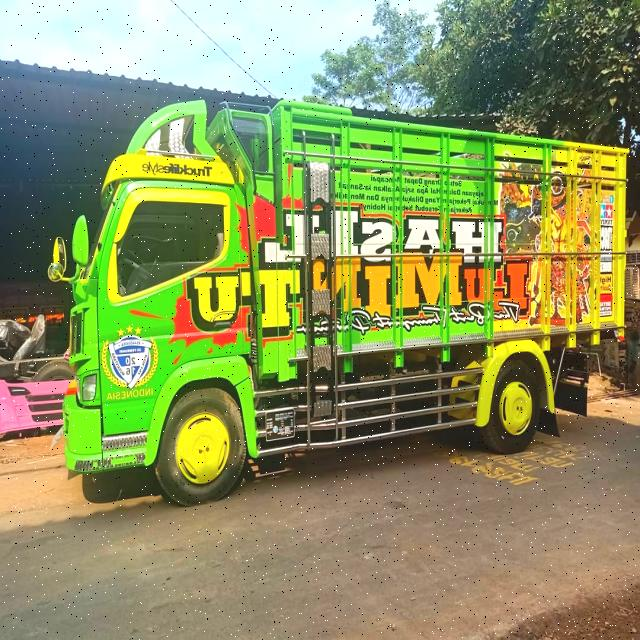truck: (46, 93, 627, 503)
